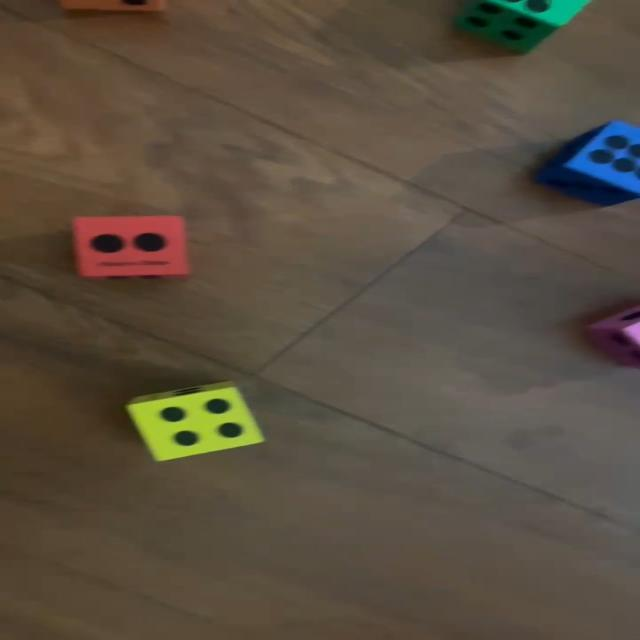blue_block: (536, 119, 640, 206)
red_block: (78, 216, 188, 280)
